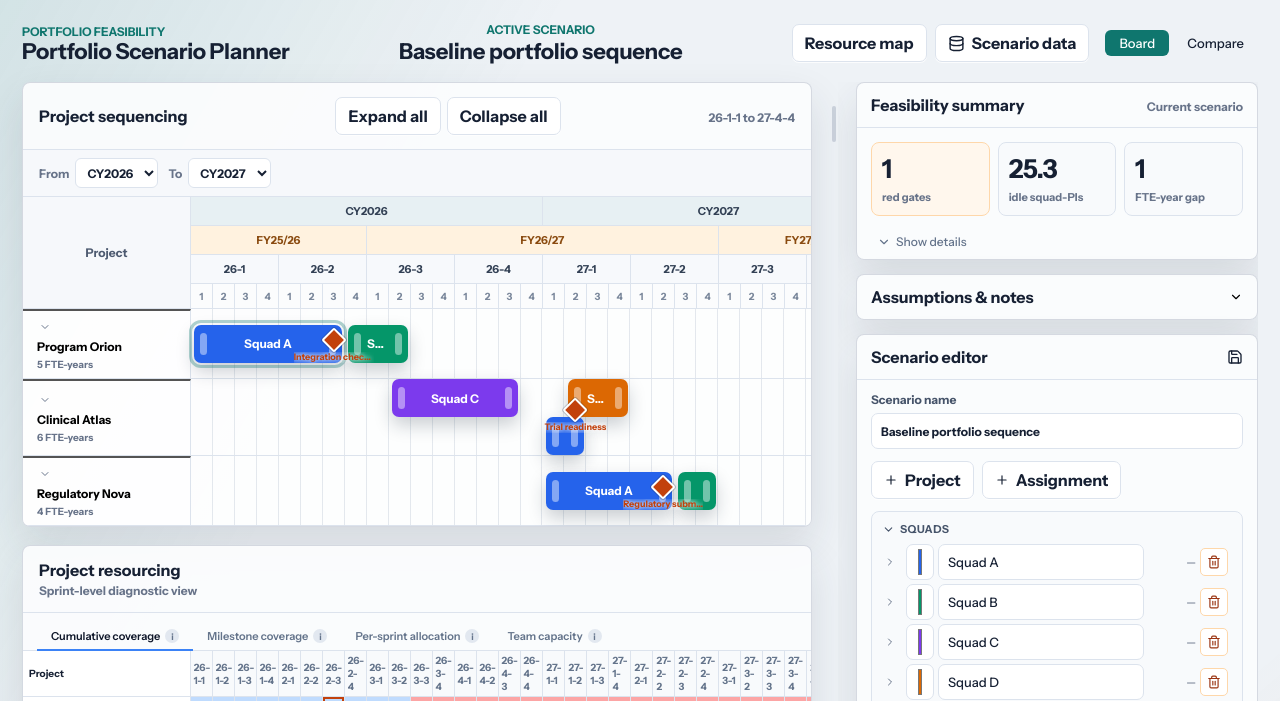
Test: Portfolio Scenario Planner app › deletes a milestone via right-click context menu on a milestone marker
The image size is (1280, 701).
Right-click the element with class "milestone-marker" showing "Integration checkpoint" at (329, 357), box [294,331,374,363]
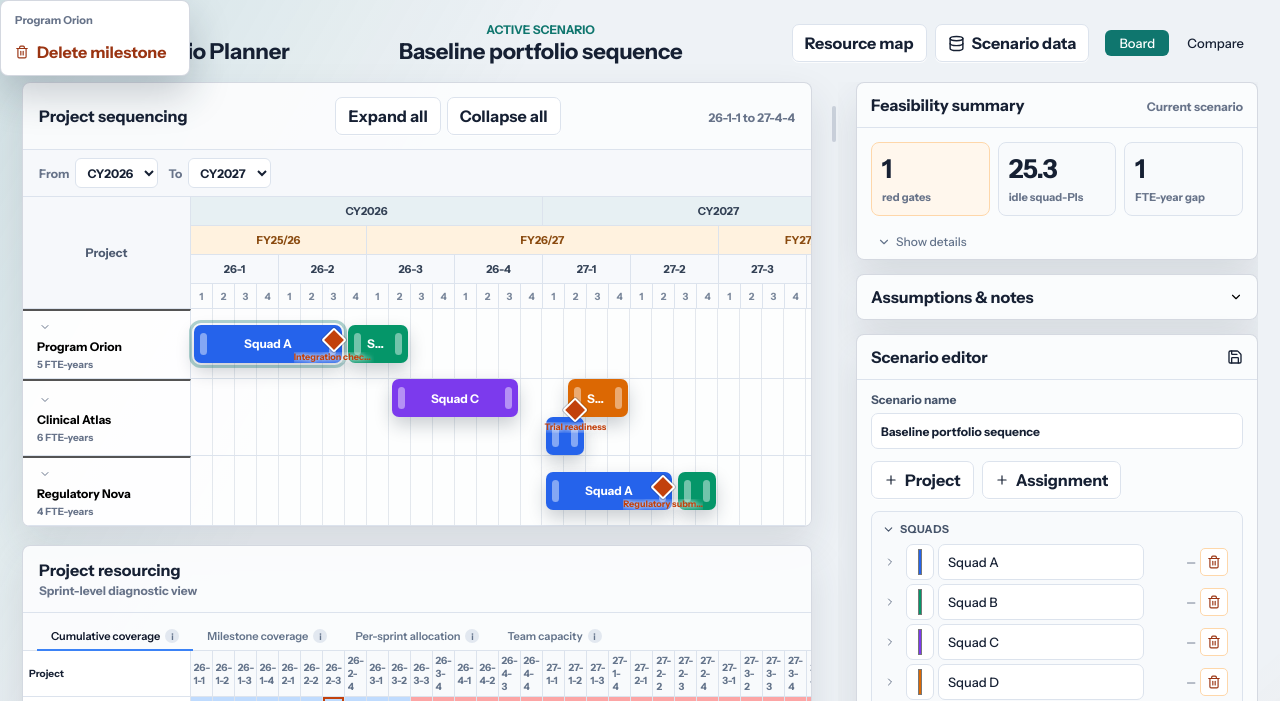
Click the menu item "Delete milestone" at (95, 52), box [7,35,183,69]
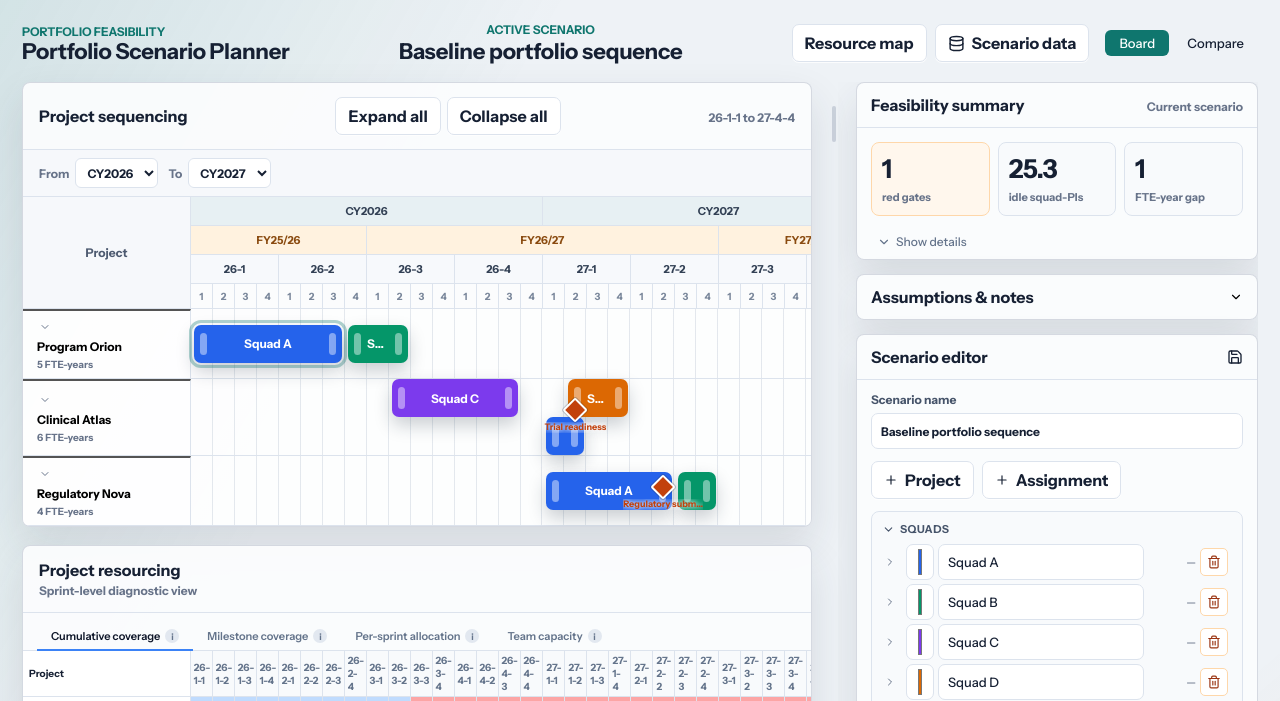
Check: the text "Integration checkpoint" is gone
